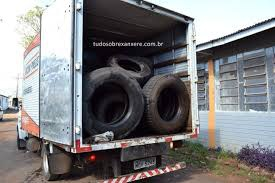tire: (84, 67, 145, 140), (146, 76, 190, 134), (109, 54, 152, 80)
